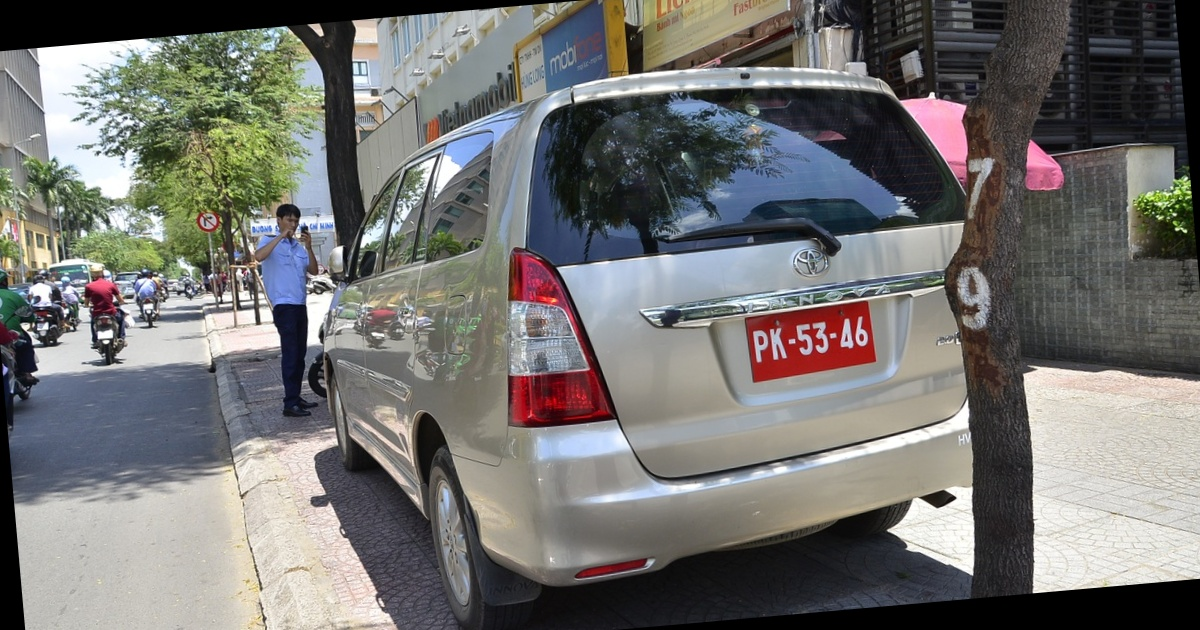plate: (748, 298, 879, 387)
